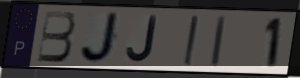1: (262, 16, 284, 70)
B: (35, 9, 77, 64)
I: (209, 14, 229, 69), (182, 14, 200, 68)
J: (78, 11, 122, 65), (125, 15, 160, 65)
